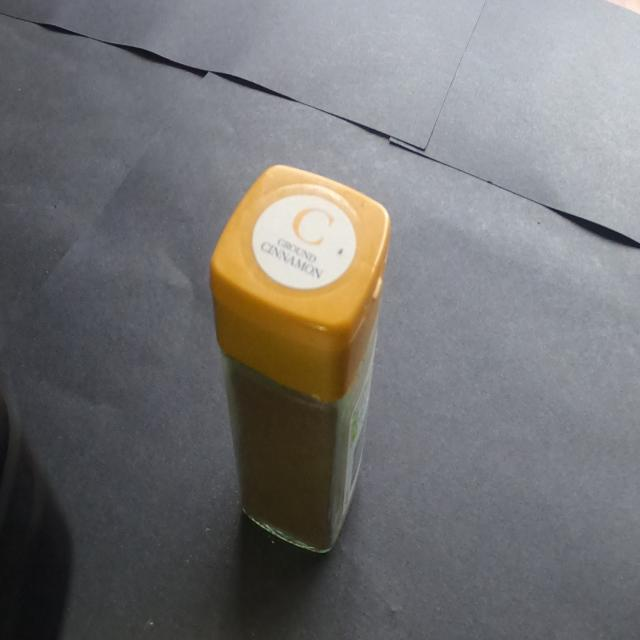Cinnamon: (198, 151, 396, 568)
